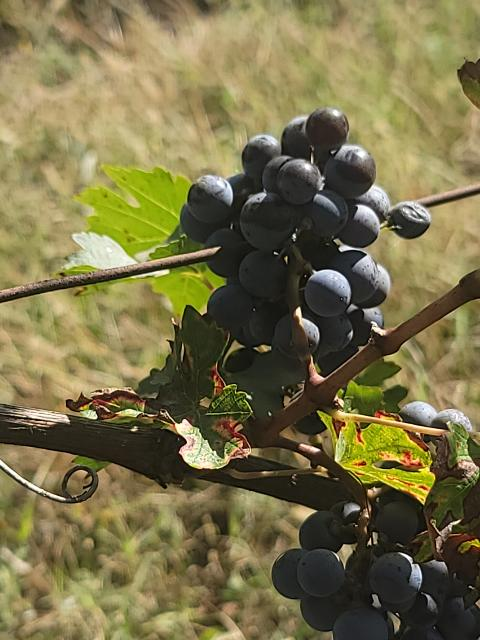grapes: (180, 108, 431, 358), (271, 499, 480, 640)
